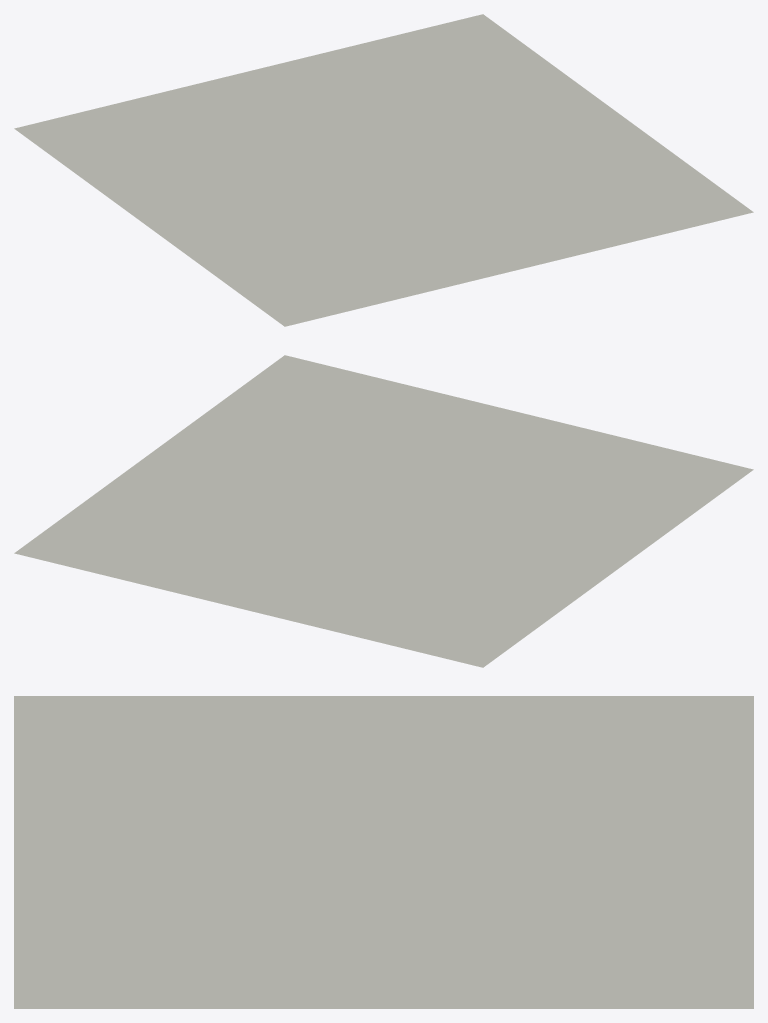
3 views of the same model, one above another, from view 1: azimuth 30°, elevation 25°; view 2: azimuth 150°, elevation 25°; view 3: azimuth 270°, elevation 25° (orthographic). The views are drawn at different scales.
Size of the model in its own units: 1 by 0 by 1.
Materials: 1 (1 with a texture image).
